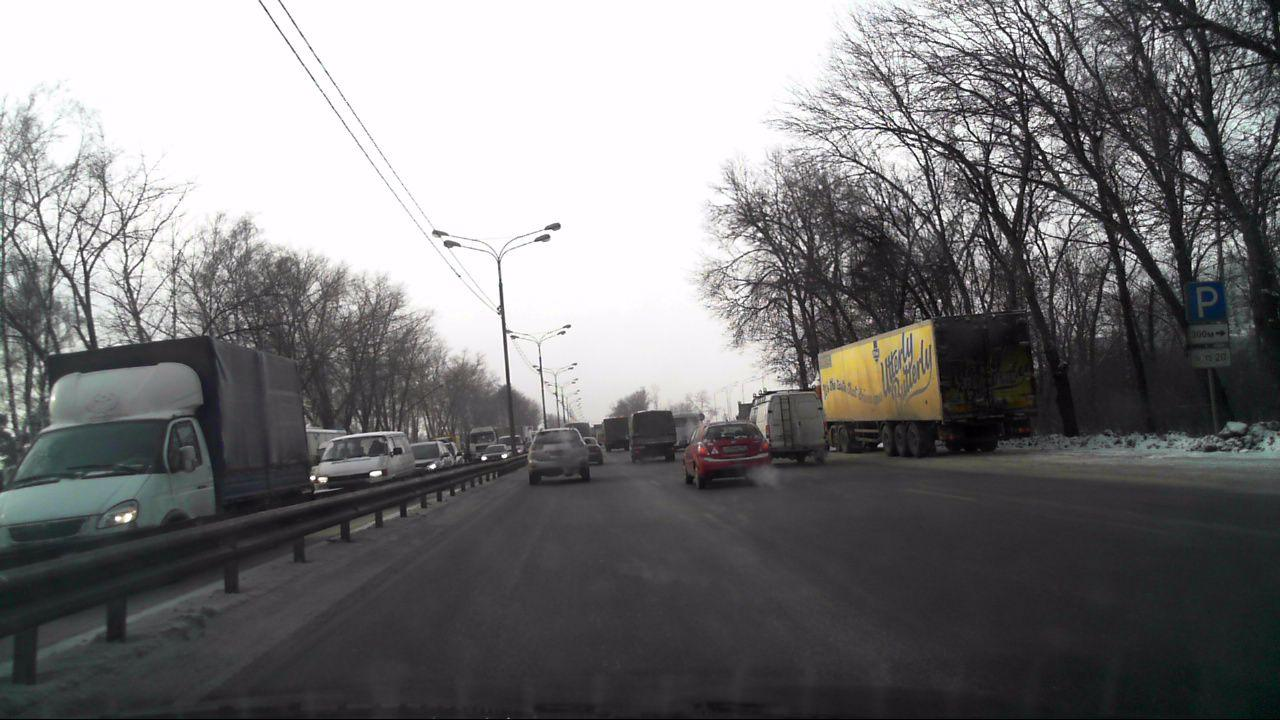6_4: (1182, 281, 1227, 320)
8_1_3: (1188, 324, 1228, 343)
8_8: (1188, 348, 1232, 367)
